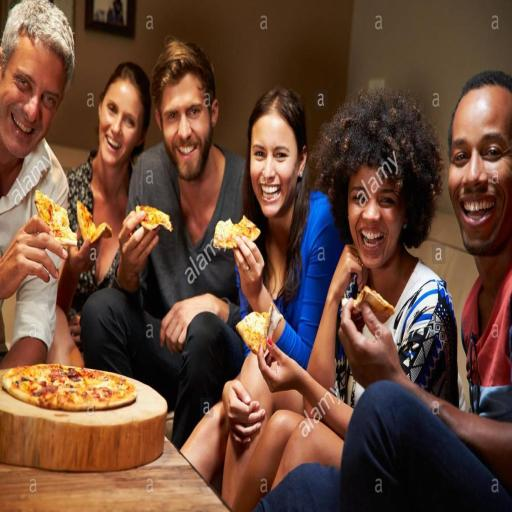person: (259, 71, 511, 510), (234, 90, 458, 510), (81, 39, 243, 438), (47, 62, 150, 366), (234, 88, 343, 367), (0, 0, 74, 367)
